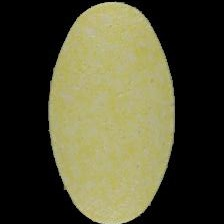21695-111: (0, 0, 224, 224)
